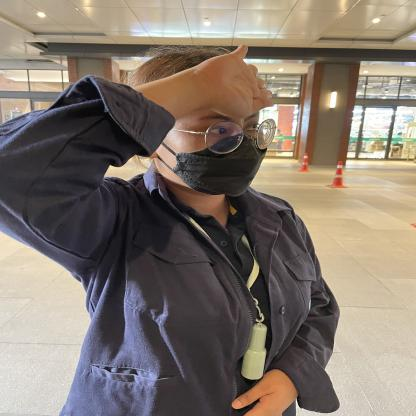Sick: (106, 40, 306, 122)
